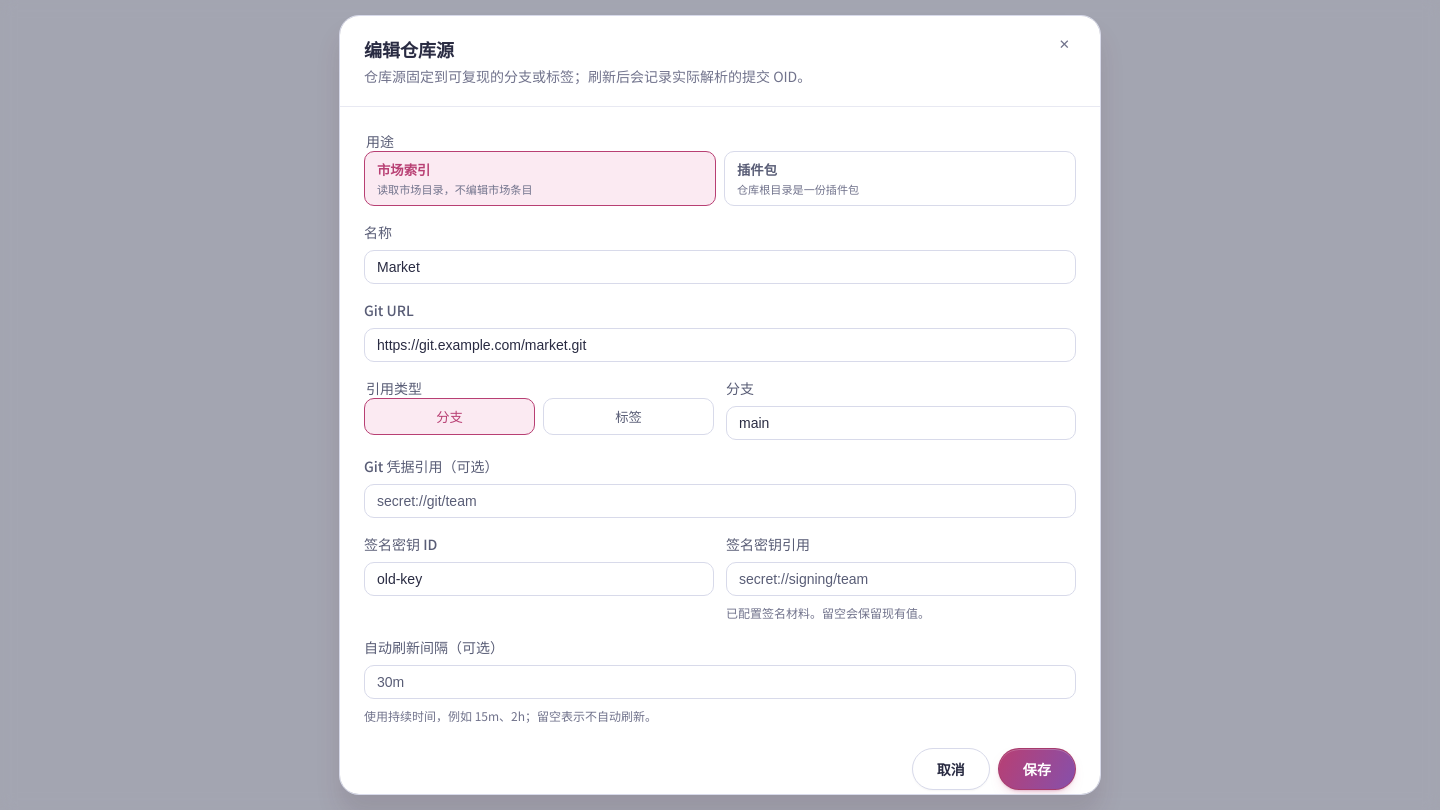
Test: RepositorySourceForm › requires the write-only signer reference when changing the signer key
This screenshot has width=1440, height=810.
Replace the text in the field with id "repository-signer-key" with "new-key" at [539, 579], box [364,562,714,596]
(page scrolled)
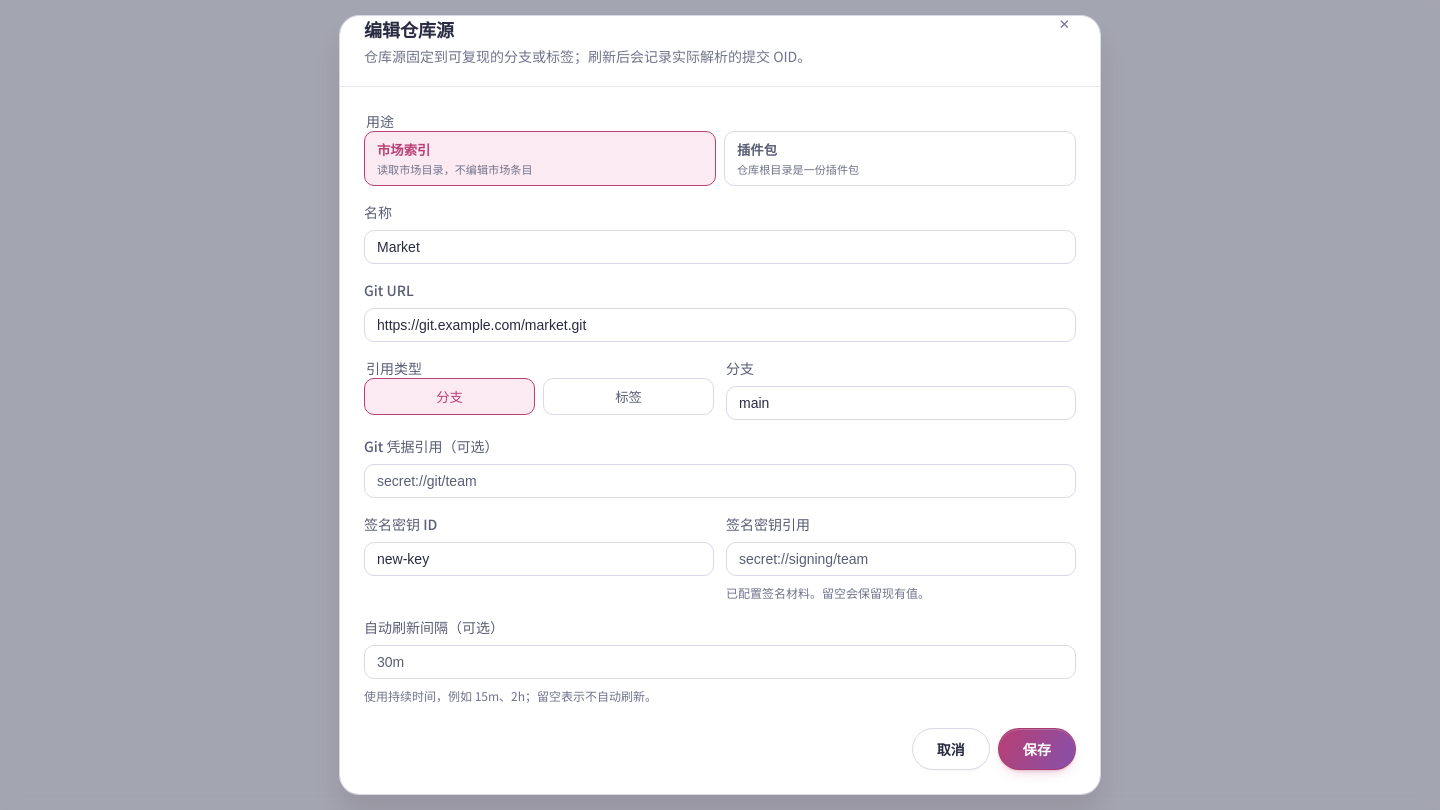
Submit the form, box [340,87,1100,794]
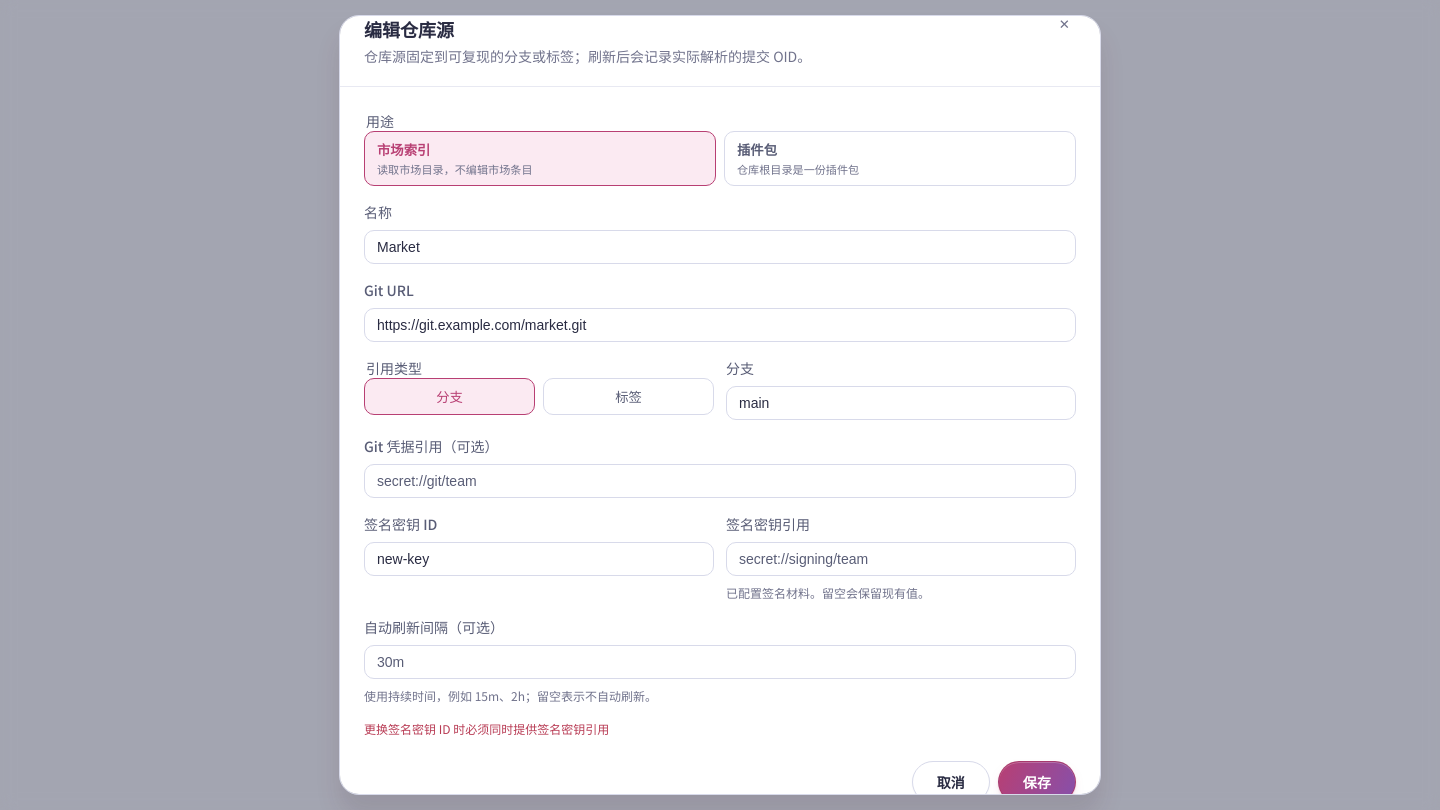
Result: the text "更换签名密钥 ID 时必须同时提供签名密钥引用" is shown at [364,720,609,737]
